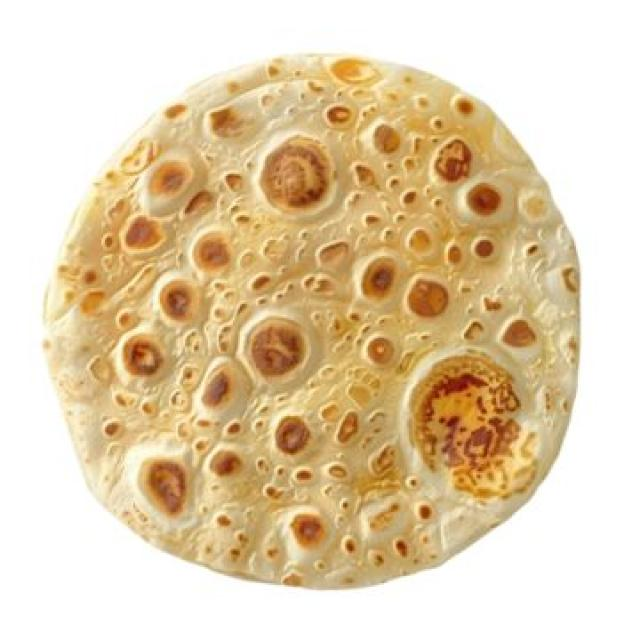ROTI: (36, 52, 574, 587)
